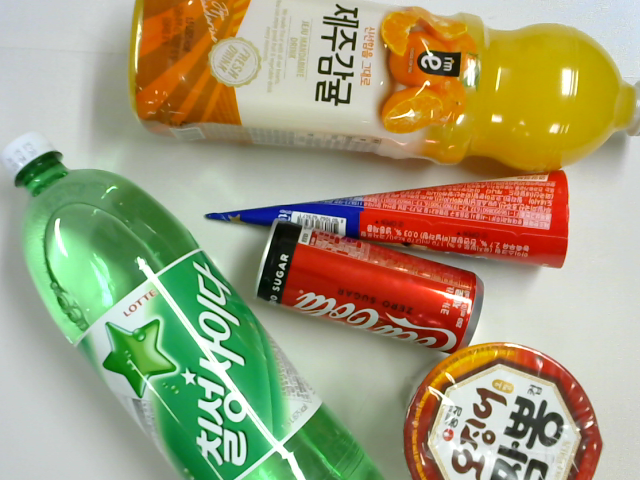Chilseong_Cider_1.5L: (1, 128, 388, 480)
Coca_Cola_Zero_Can_250ml: (255, 219, 482, 356)
Jeju_Tangerine_1.5L: (130, 2, 640, 173)
Ojjam: (403, 339, 603, 480)
World_Cone_Banila: (198, 170, 571, 269)
